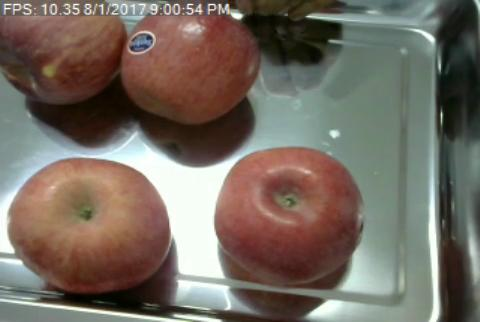apple: (8, 159, 172, 291), (213, 146, 364, 285), (126, 15, 260, 123), (0, 15, 123, 103)
